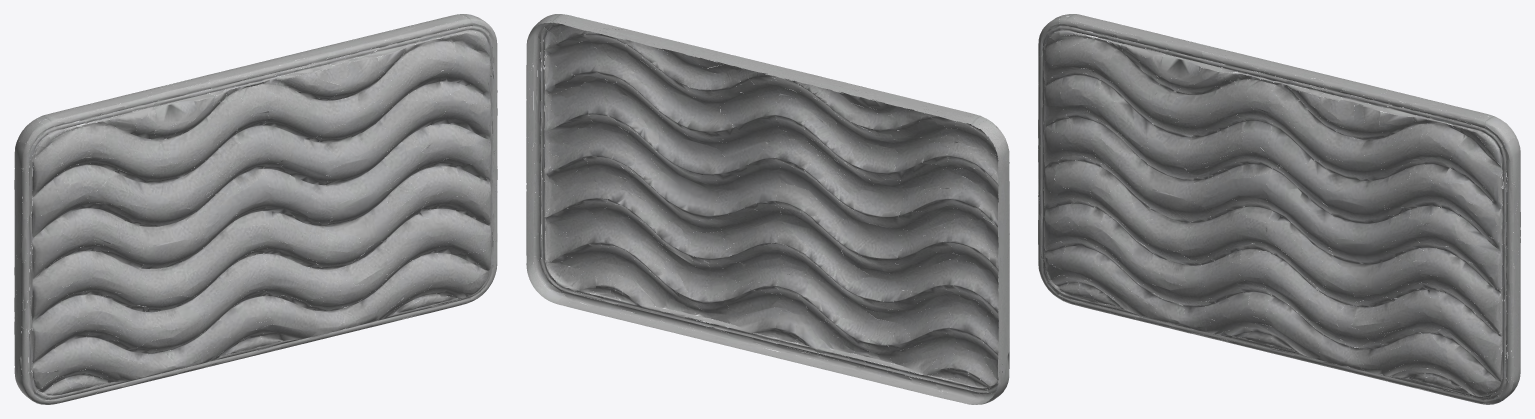
Rendered from bath-vanity-mat.glb.
The picture shows the model from 3 angles, left to right: view 1: azimuth 30°, elevation 25°; view 2: azimuth 150°, elevation 25°; view 3: azimuth 330°, elevation 25°; orthographic projection.
Parts seen in each view (by area): view 1: Mesh_0; view 2: Mesh_0; view 3: Mesh_0.
Boxes of the visible parts, x1=… form: Mesh_0: x1=14, y1=14, x2=497, y2=404; Mesh_0: x1=526, y1=14, x2=1009, y2=404; Mesh_0: x1=1038, y1=14, x2=1520, y2=404.
Bounding box in the file's own units: 1.9 × 1.09 × 0.138.
1 material, 1 textured.
